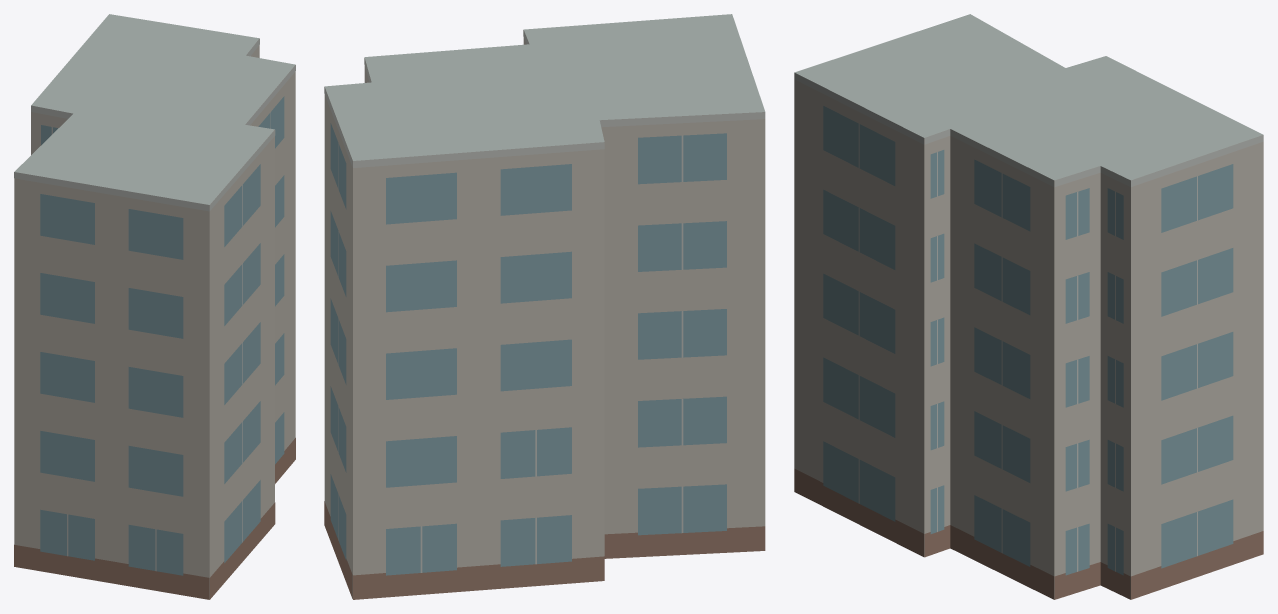
The model's file is survey-upis-32764606.glb.
The picture shows the model from 3 angles, left to right: view 1: azimuth 30°, elevation 25°; view 2: azimuth 150°, elevation 25°; view 3: azimuth 270°, elevation 25°; orthographic projection. The views are drawn at different scales.
Visible parts, largest first — view 1: survey-upis-32764606.tmp; view 2: survey-upis-32764606.tmp; view 3: survey-upis-32764606.tmp.
Boxes of the visible parts, x1,y1,x2,y2 form: survey-upis-32764606.tmp: [14, 14, 295, 599]; survey-upis-32764606.tmp: [324, 14, 765, 599]; survey-upis-32764606.tmp: [794, 14, 1263, 599].
Bounding box in the file's own units: 12.86 × 15.1 × 15.32.
